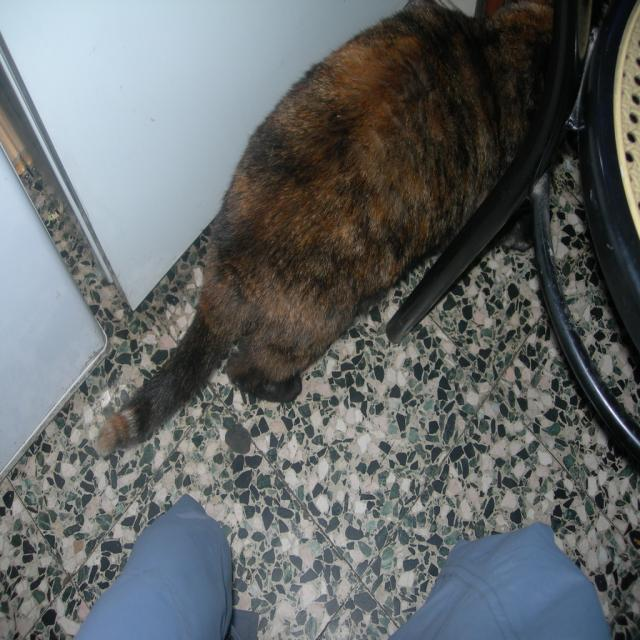Cat: (95, 0, 562, 452)
